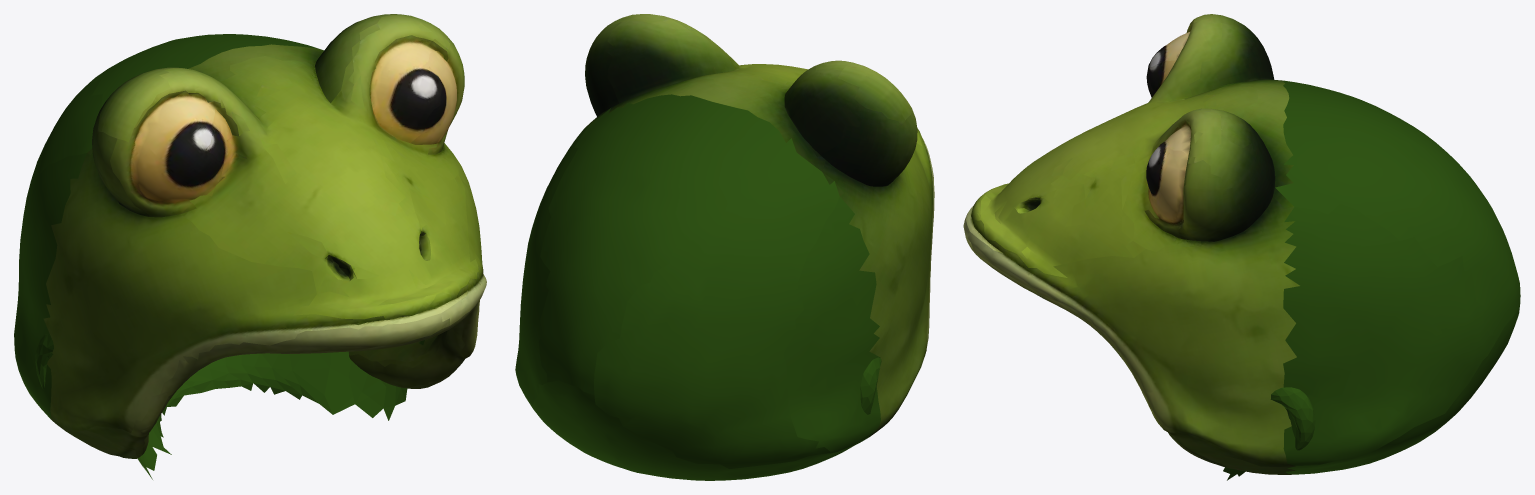
The model's file is frog.glb.
The picture shows the model from 3 angles, left to right: view 1: azimuth 30°, elevation 25°; view 2: azimuth 150°, elevation 25°; view 3: azimuth 270°, elevation 25°; orthographic projection. The views are drawn at different scales.
Visible parts, largest first — view 1: geometry_0, HoodAnatomicalLining; view 2: geometry_0, HoodAnatomicalLining; view 3: geometry_0, HoodAnatomicalLining.
Part boxes in pixels (left/top/right/bottom): geometry_0: left=14, top=14, right=486, bottom=458; HoodAnatomicalLining: left=35, top=334, right=424, bottom=479; geometry_0: left=515, top=14, right=934, bottom=480; HoodAnatomicalLining: left=860, top=357, right=881, bottom=414; geometry_0: left=963, top=14, right=1520, bottom=474; HoodAnatomicalLining: left=1223, top=387, right=1315, bottom=480.
Bounding box in the file's own units: 0.4751 × 0.4841 × 0.6763.
Materials: 2 (1 with a texture image).
